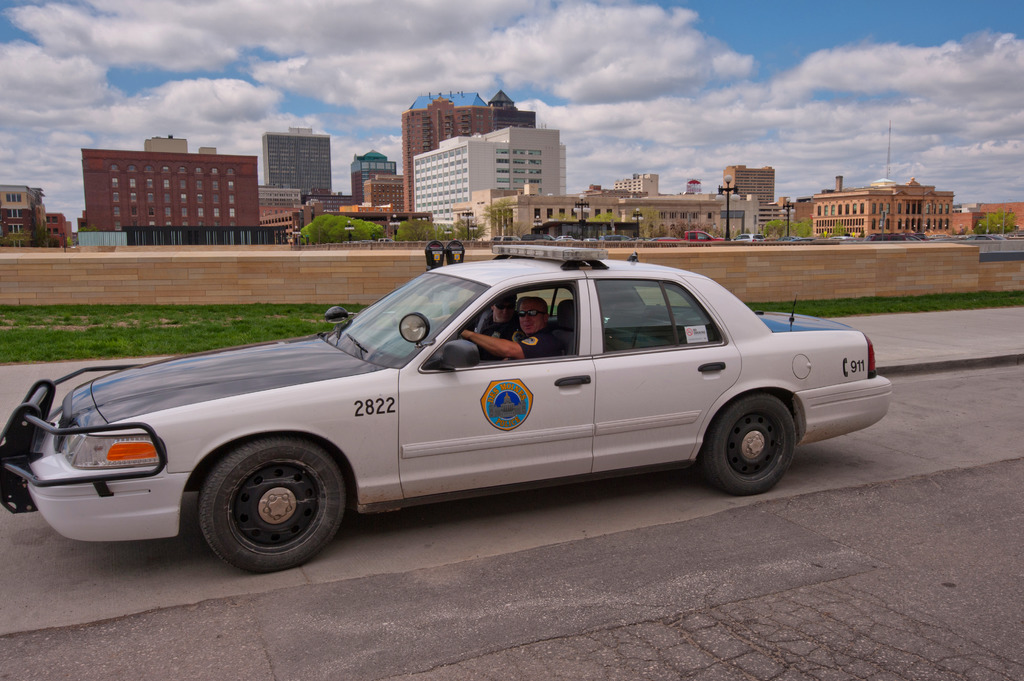Tree: (299, 197, 1018, 242), (71, 223, 97, 244), (31, 228, 54, 246), (0, 225, 4, 240)
